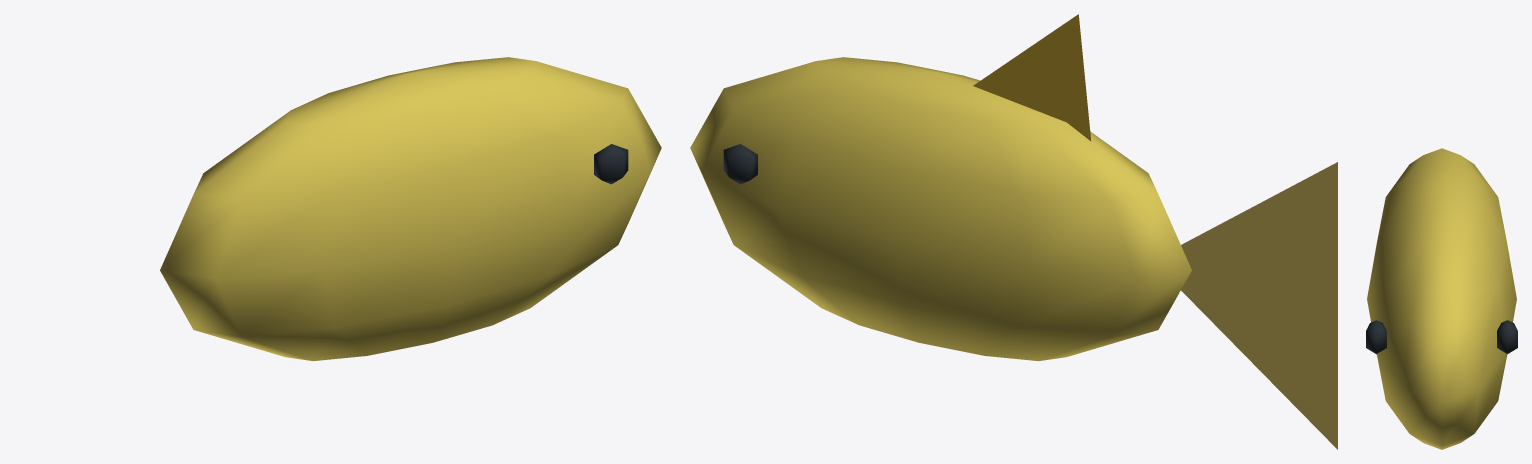
Rendered from fish.glb.
The picture shows the model from 3 angles, left to right: view 1: azimuth 30°, elevation 25°; view 2: azimuth 150°, elevation 25°; view 3: azimuth 270°, elevation 25°; orthographic projection. The views are drawn at different scales.
Visible parts, largest first — view 1: fish; view 2: fish; view 3: fish.
Part boxes in pixels (<box>): fish: <box>160,57,661,361</box>; fish: <box>690,14,1337,449</box>; fish: <box>1366,148,1517,449</box>.
Size of the model in its own units: 0.8 by 0.44 by 0.1924.
